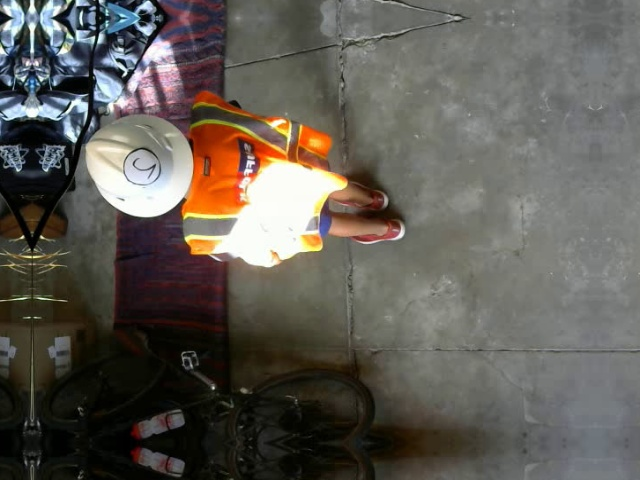two: (122, 148, 160, 186)
